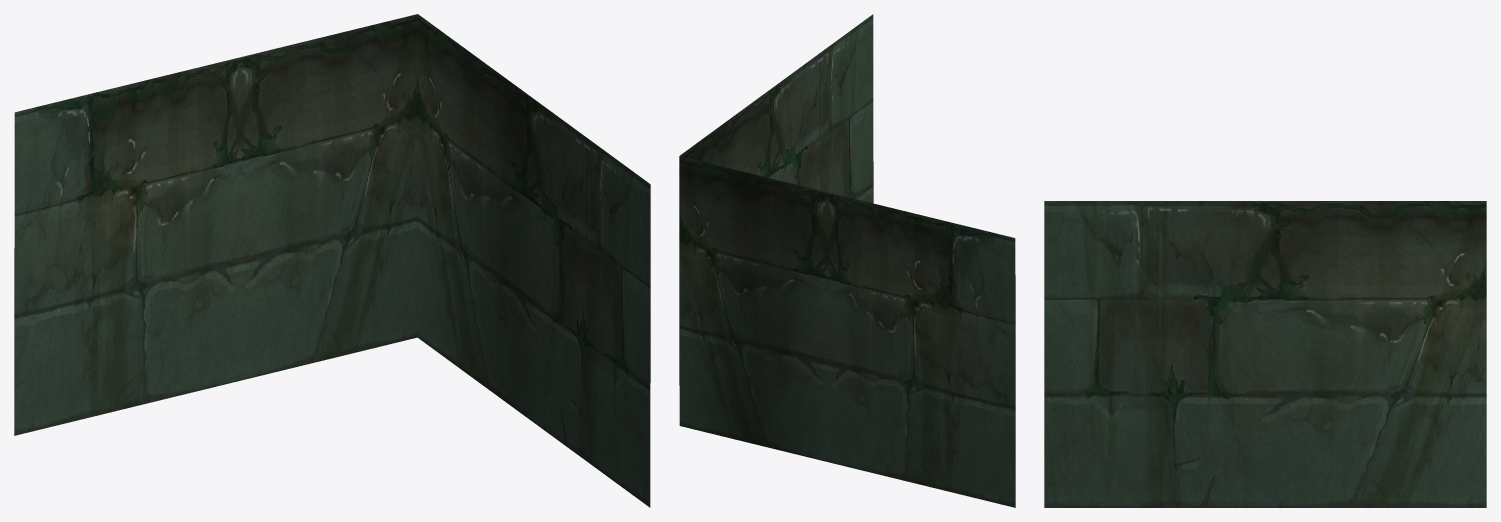
The model's file is stemple_half_concave_05.fbx.
3 renders of one model, left to right at view 1: azimuth 30°, elevation 25°; view 2: azimuth 150°, elevation 25°; view 3: azimuth 270°, elevation 25°, orthographic. The views are drawn at different scales.
Visible parts, largest first — view 1: sunken_tileset/sunken_wall_straight07_mat; view 2: sunken_tileset/sunken_wall_straight07_mat; view 3: sunken_tileset/sunken_wall_straight07_mat.
Part boxes in pixels (x1,y1,x2,y2): sunken_tileset/sunken_wall_straight07_mat: (14,14,650,507); sunken_tileset/sunken_wall_straight07_mat: (679,14,1015,507); sunken_tileset/sunken_wall_straight07_mat: (1044,201,1486,507).
Size of the model in its own units: 3.59 by 2.75 by 3.59.
